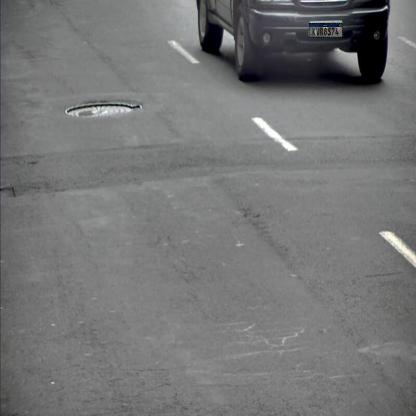PlacaM: (309, 23, 343, 37)
